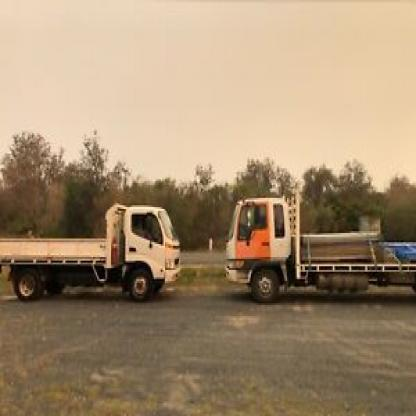dump_truck: (3, 180, 183, 312), (222, 187, 414, 305)
